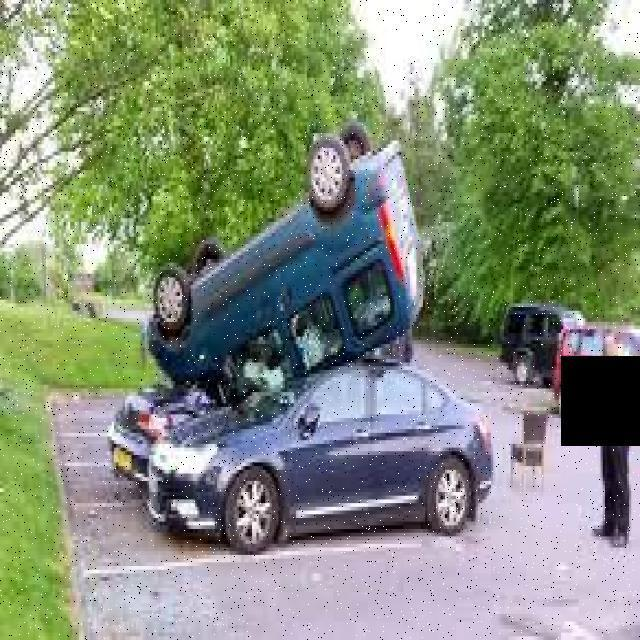multiple_accident: (87, 105, 523, 582)
